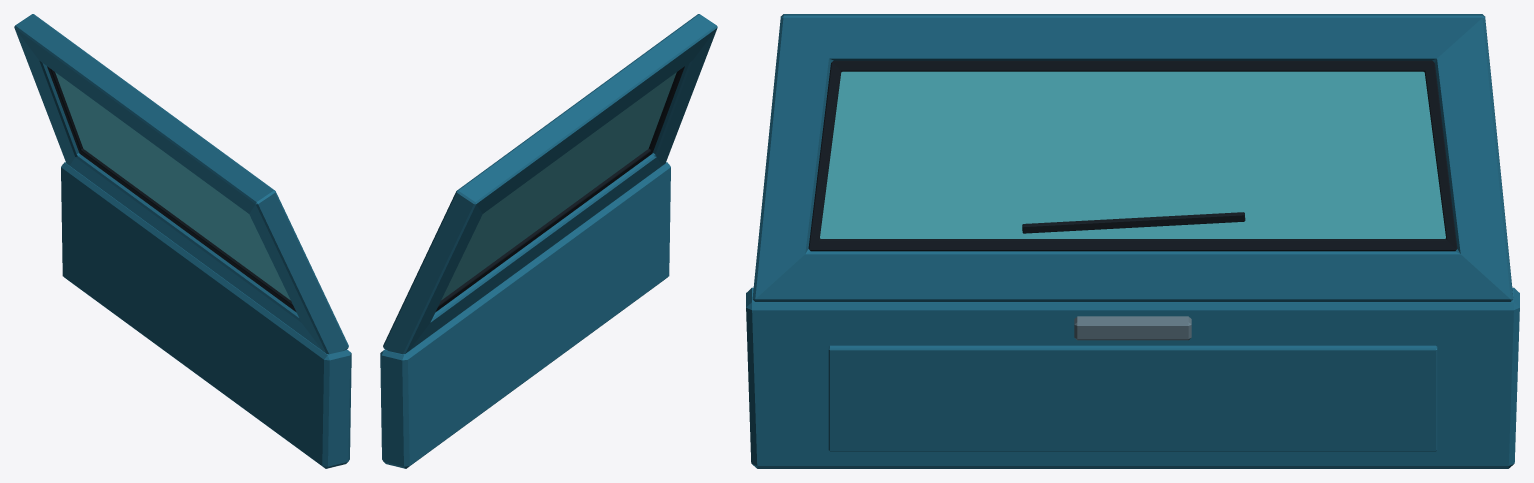
File: QC_Hatch.fbx
3 views of the same model, side by side, from view 1: azimuth 30°, elevation 25°; view 2: azimuth 150°, elevation 25°; view 3: azimuth 270°, elevation 25° (orthographic). The views are drawn at different scales.
Parts seen in each view (by area): view 1: QC_Hatch; view 2: QC_Hatch; view 3: QC_Hatch.
Boxes of the visible parts, x1=… form: QC_Hatch: x1=14, y1=14, x2=351, y2=468; QC_Hatch: x1=380, y1=14, x2=717, y2=468; QC_Hatch: x1=746, y1=14, x2=1519, y2=468.
Size of the model in its own units: 0.3192 by 0.8966 by 1.54.
